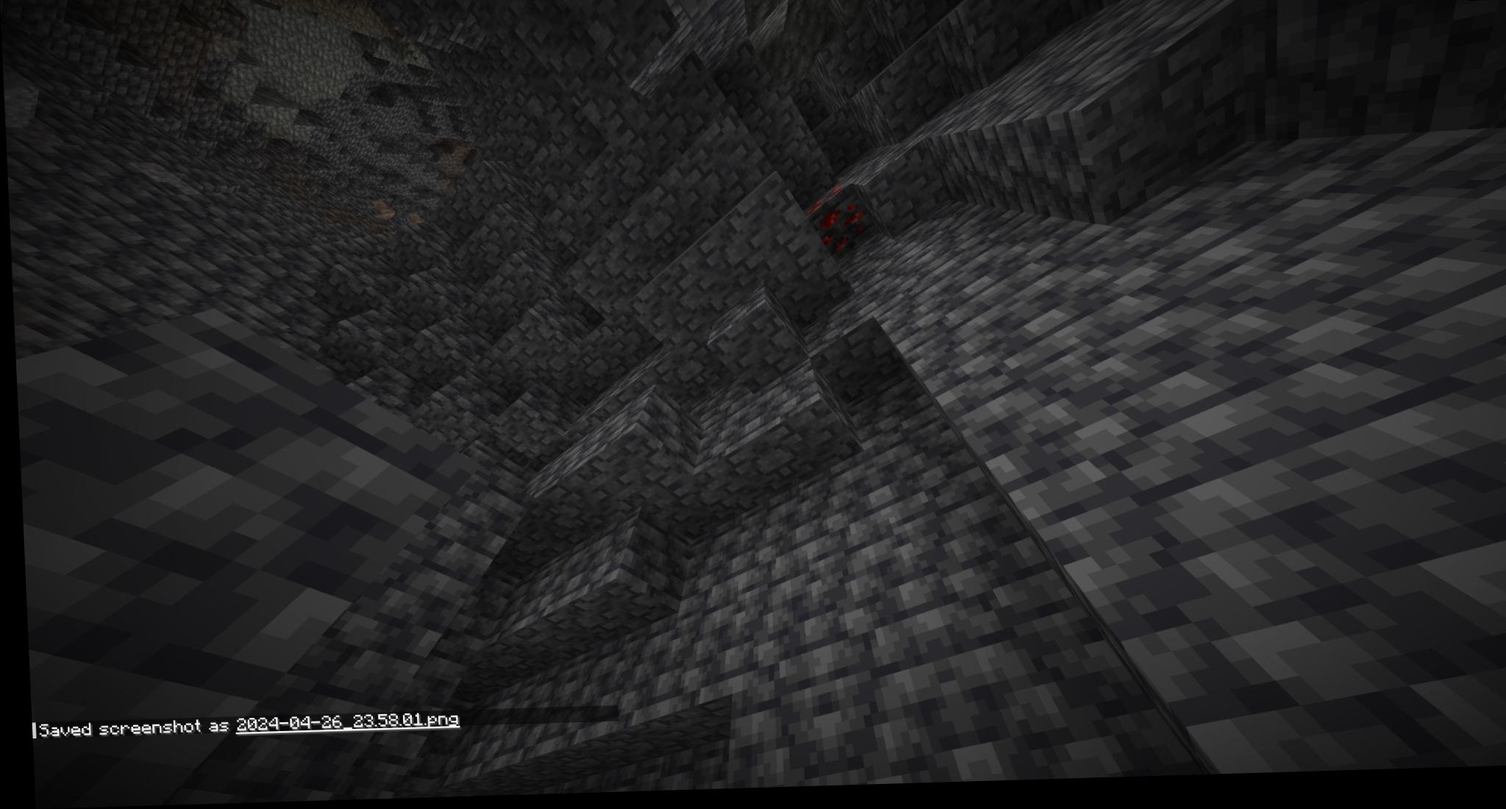redstone ore: (809, 186, 876, 261)
